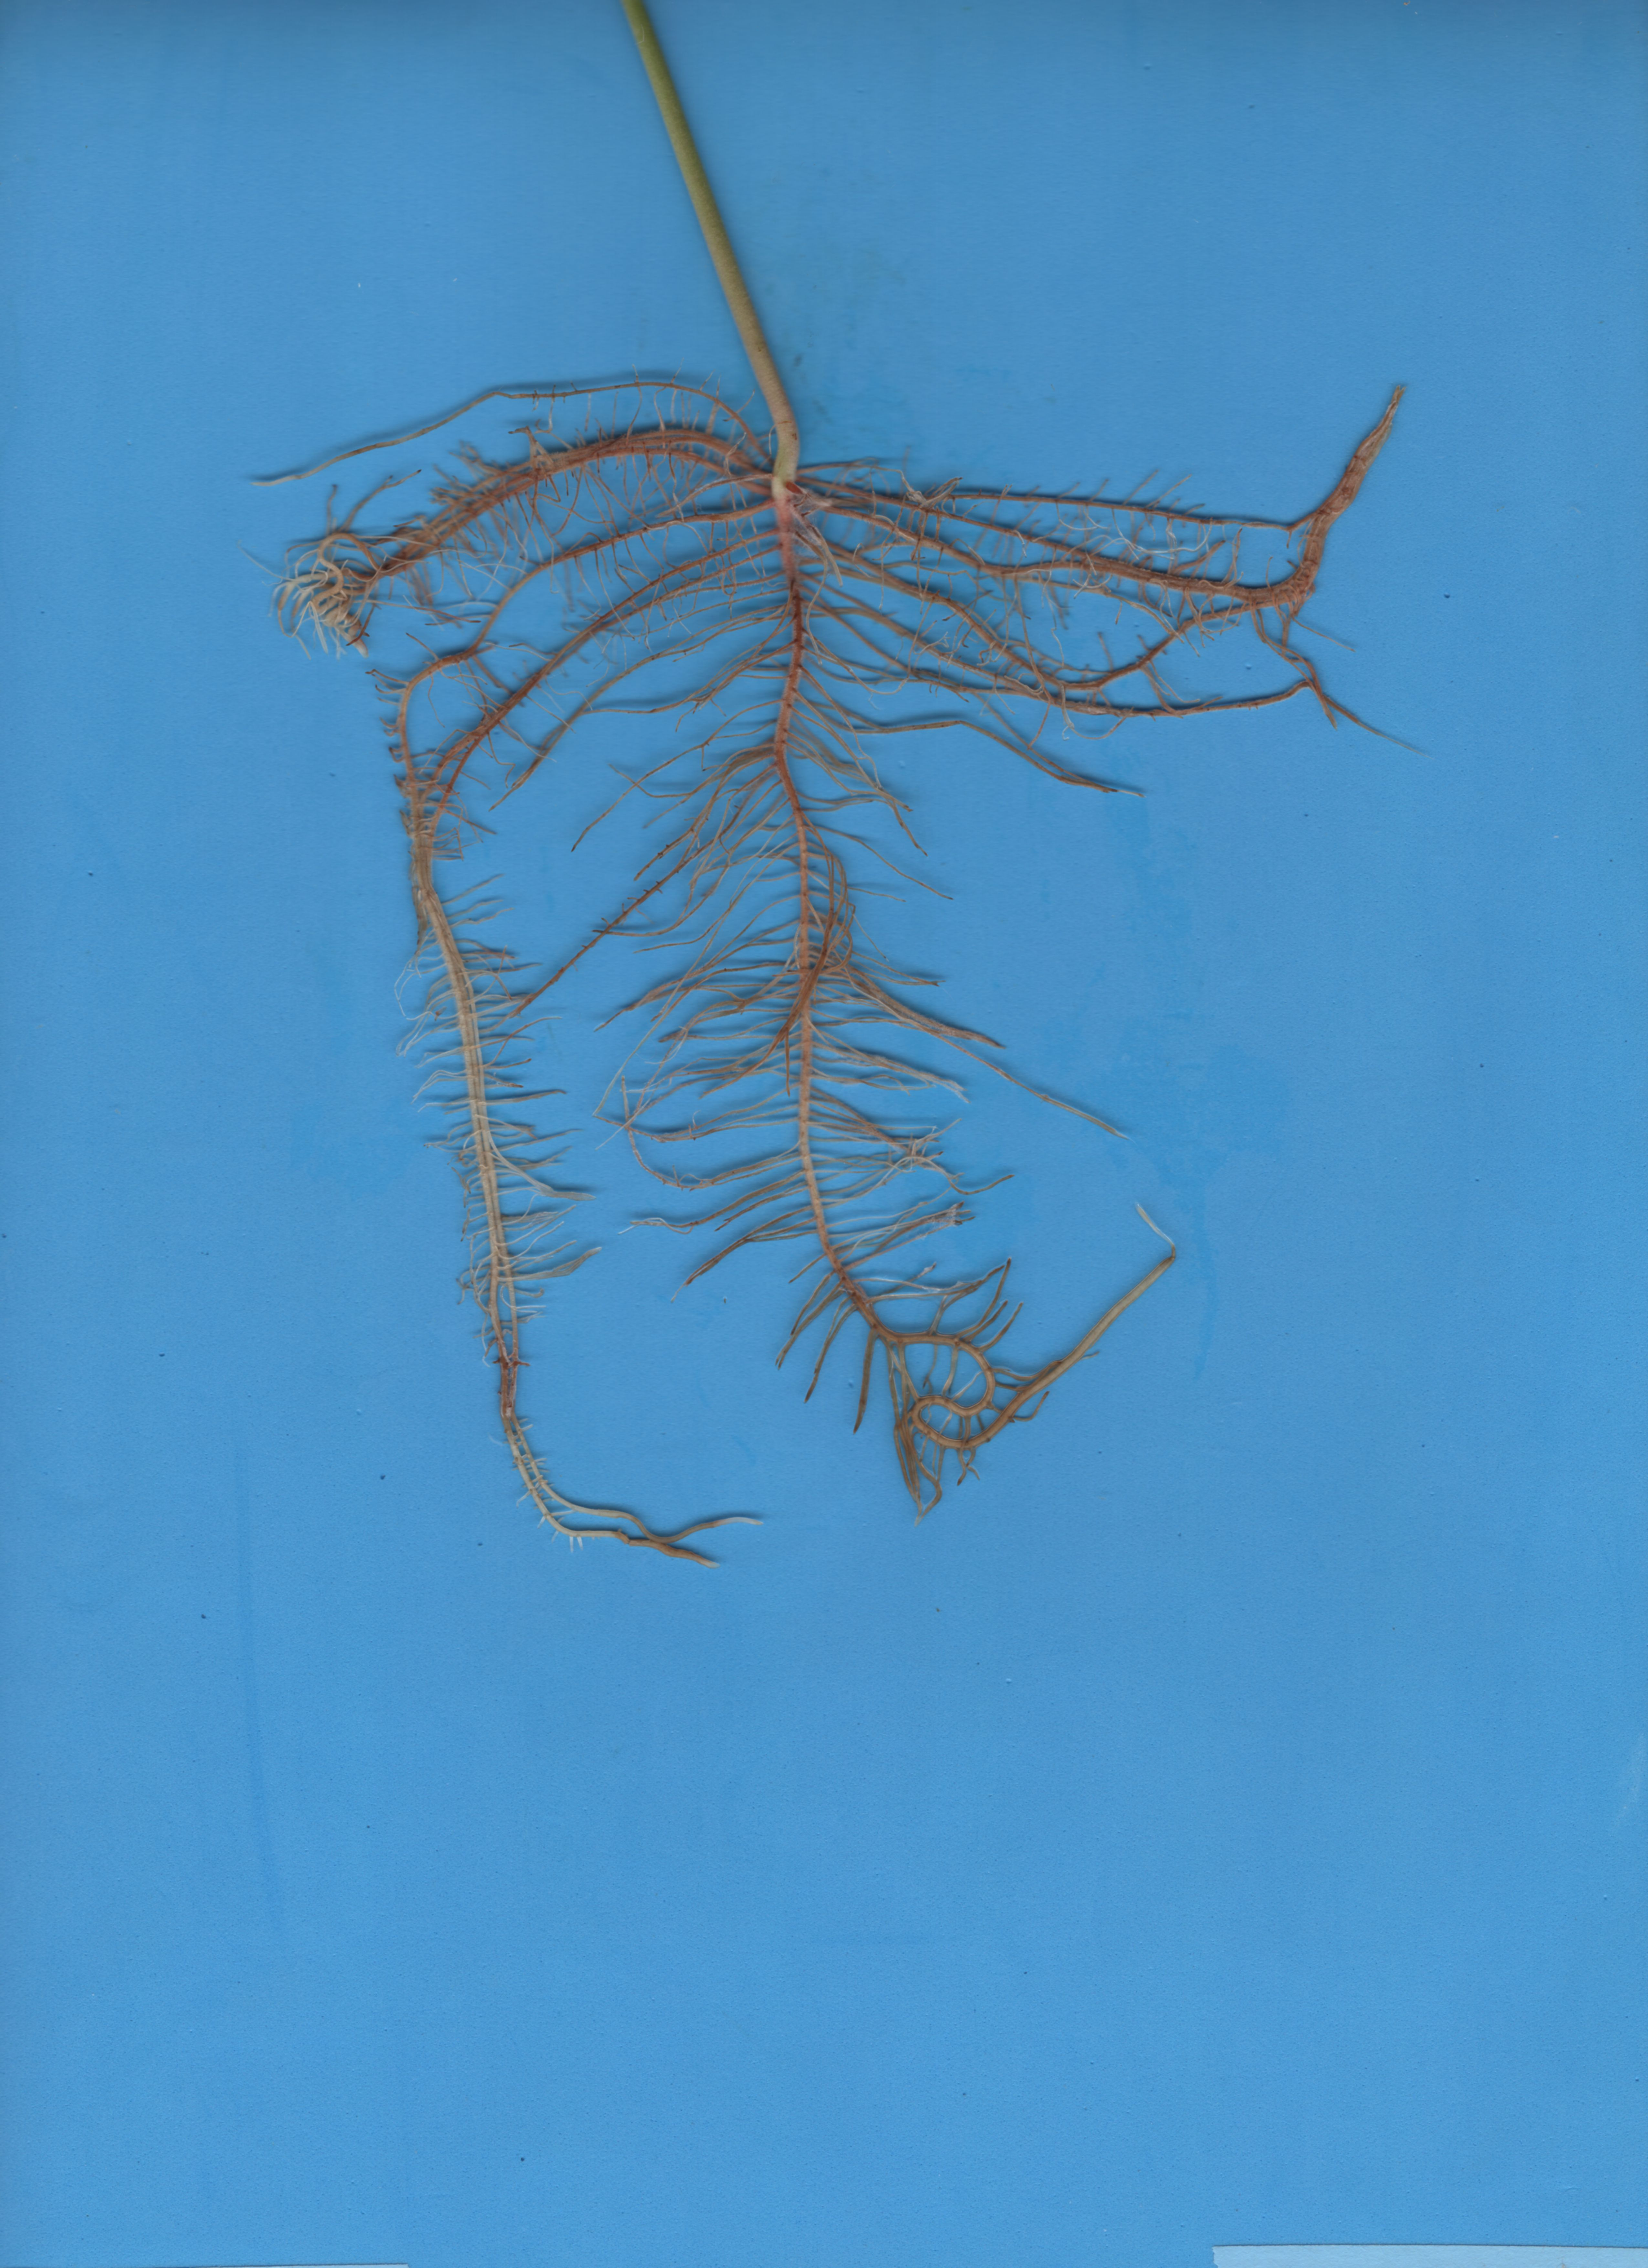ROOTDISEASE: (241, 393, 1590, 1615)
ROOTGOOD: (599, 5, 896, 532)
